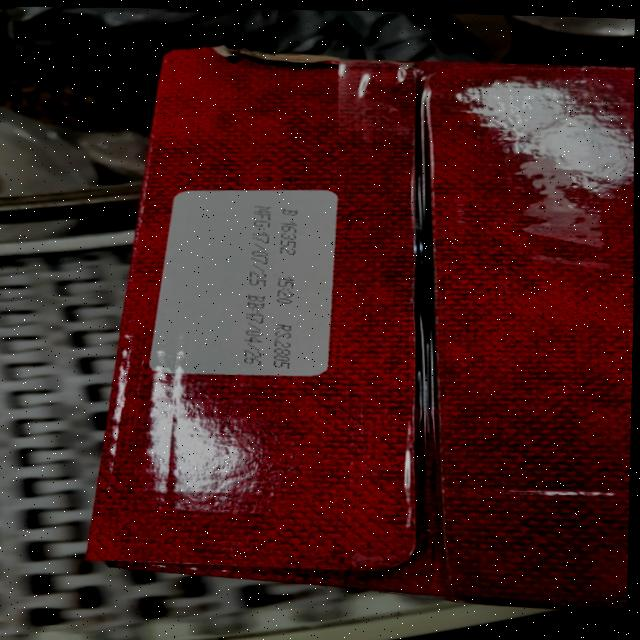BB: (241, 292, 266, 366)
Batch: (278, 205, 299, 258)
MFG: (248, 204, 273, 289)
RS: (272, 322, 293, 371)
TimeStamp: (275, 272, 295, 306)
